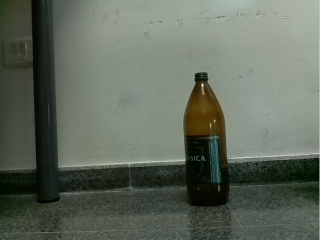pote cristal: (183, 72, 229, 206)
